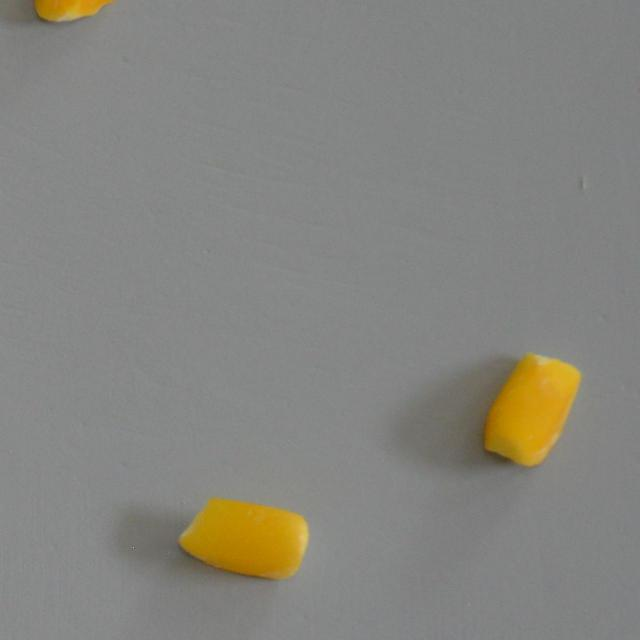estandar: (466, 351, 583, 470), (178, 481, 306, 586), (20, 0, 136, 30)
